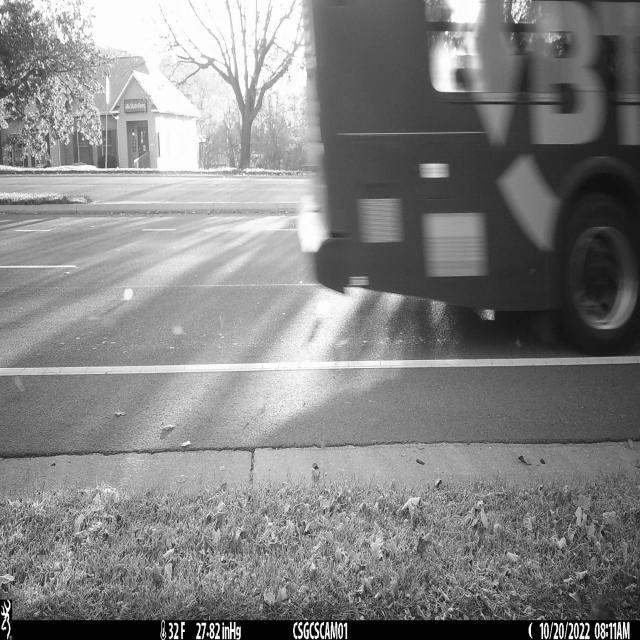Bus: (297, 0, 640, 353)
